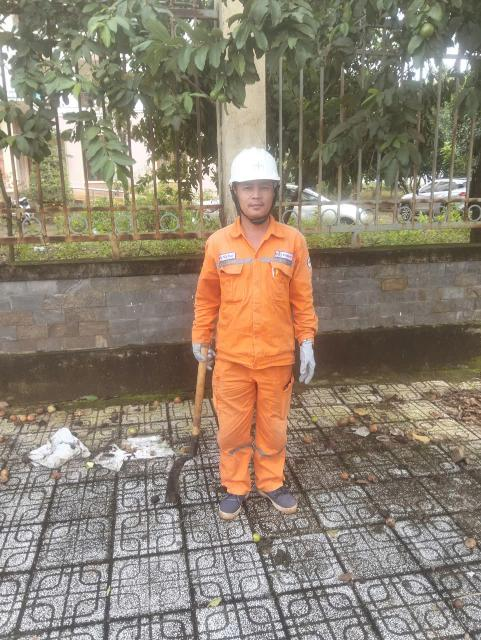gloves: (291, 339, 324, 383), (189, 333, 219, 373)
helmet: (217, 140, 282, 193)
shoes: (202, 473, 253, 521), (256, 476, 305, 521)
